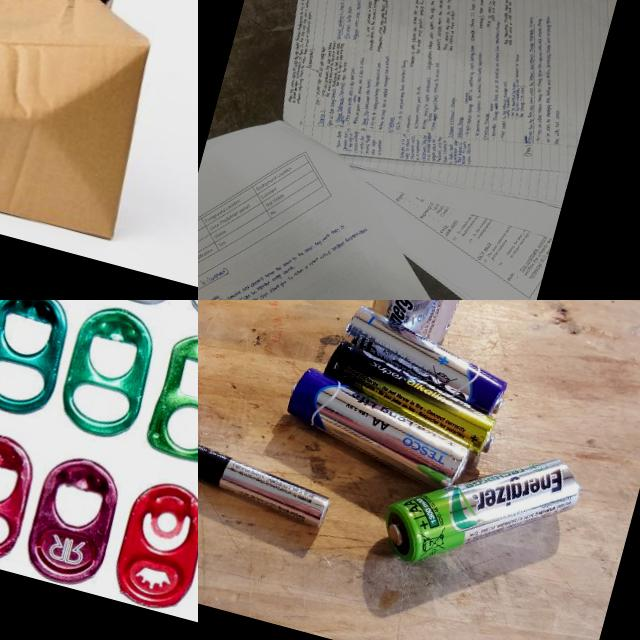aba de lata: (17, 449, 128, 594), (53, 300, 164, 444), (107, 474, 198, 616), (0, 300, 75, 422), (142, 325, 198, 470), (0, 423, 44, 570)
bateria: (375, 420, 587, 600), (276, 364, 478, 494), (316, 338, 508, 456), (333, 303, 517, 419), (198, 434, 337, 531), (368, 300, 500, 354)
papel: (198, 0, 625, 300)
papelão: (0, 0, 184, 245)
